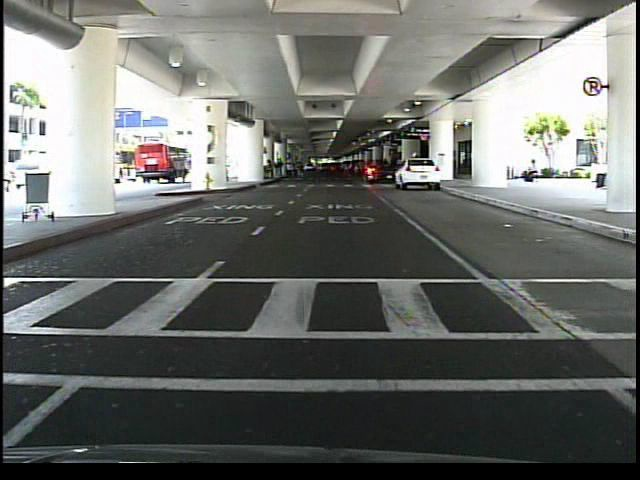person: (517, 155, 543, 190)
